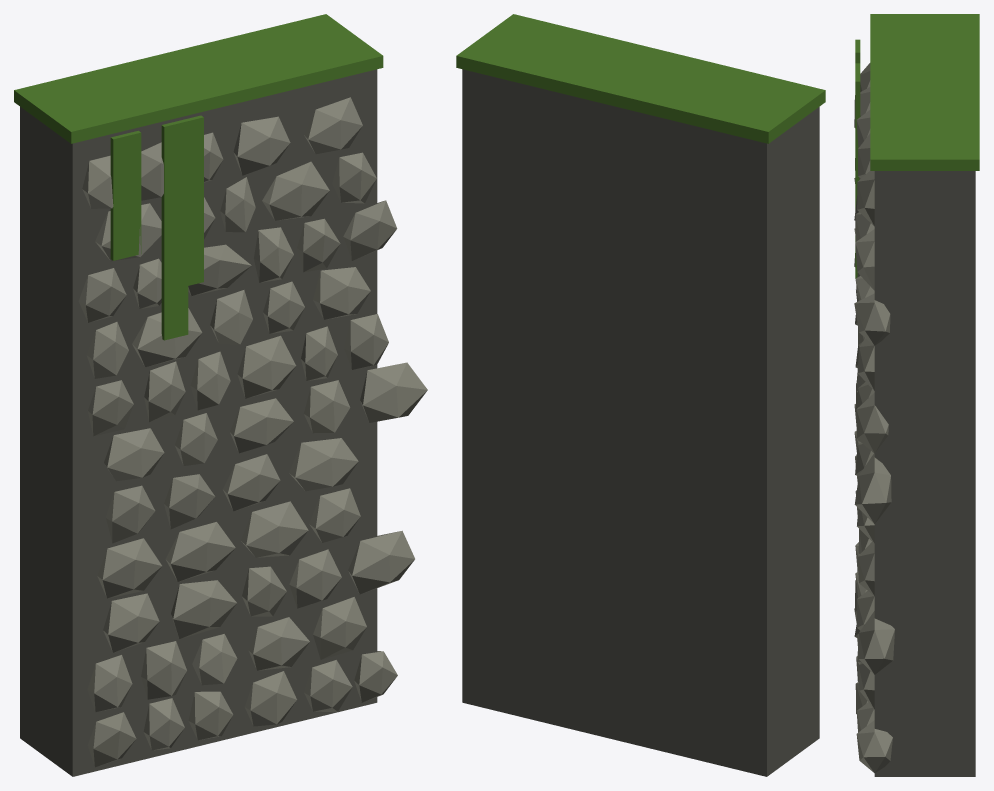
File: rock_wall_tall.glb
3 views of the same model, side by side, from view 1: azimuth 30°, elevation 25°; view 2: azimuth 150°, elevation 25°; view 3: azimuth 270°, elevation 25° (orthographic). The views are drawn at different scales.
Visible parts, largest first — view 1: stone_dark-col, stone, moss-col; view 2: stone_dark-col, moss-col; view 3: stone_dark-col, moss-col, stone.
Part boxes in pixels (x1,y1,x2,y2): stone_dark-col: [20, 69, 377, 776]; stone: [78, 97, 427, 767]; moss-col: [14, 14, 383, 340]; stone_dark-col: [462, 69, 819, 776]; moss-col: [456, 14, 825, 143]; stone_dark-col: [874, 171, 975, 776]; moss-col: [855, 14, 979, 278]; stone: [854, 63, 894, 773].
Size of the model in its own units: 4.63 by 8.12 by 1.49.
